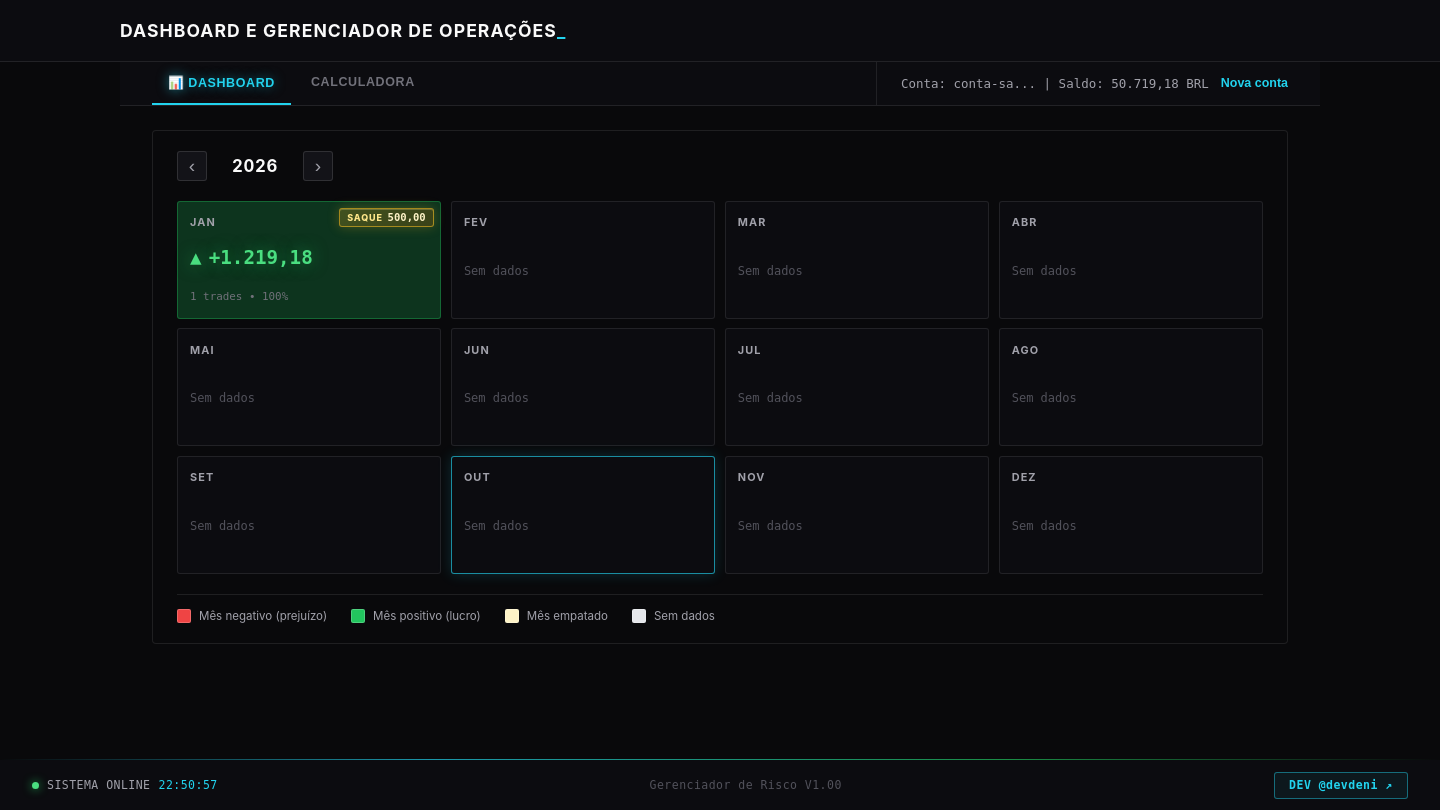
Scenario: CreateAccountModal reabertura › restaura operações salvas ao abrir e exibe no mês
The image size is (1440, 810).
Expected: the element with class "withdraw-badge" is shown, [339,208,434,227]
Expected: the element with class "withdraw-badge" shows "SAQUE", [347,212,383,223]
Click the cell with class "month-tile" that starts with "Jan" at point(309, 260), box [177,201,441,319]
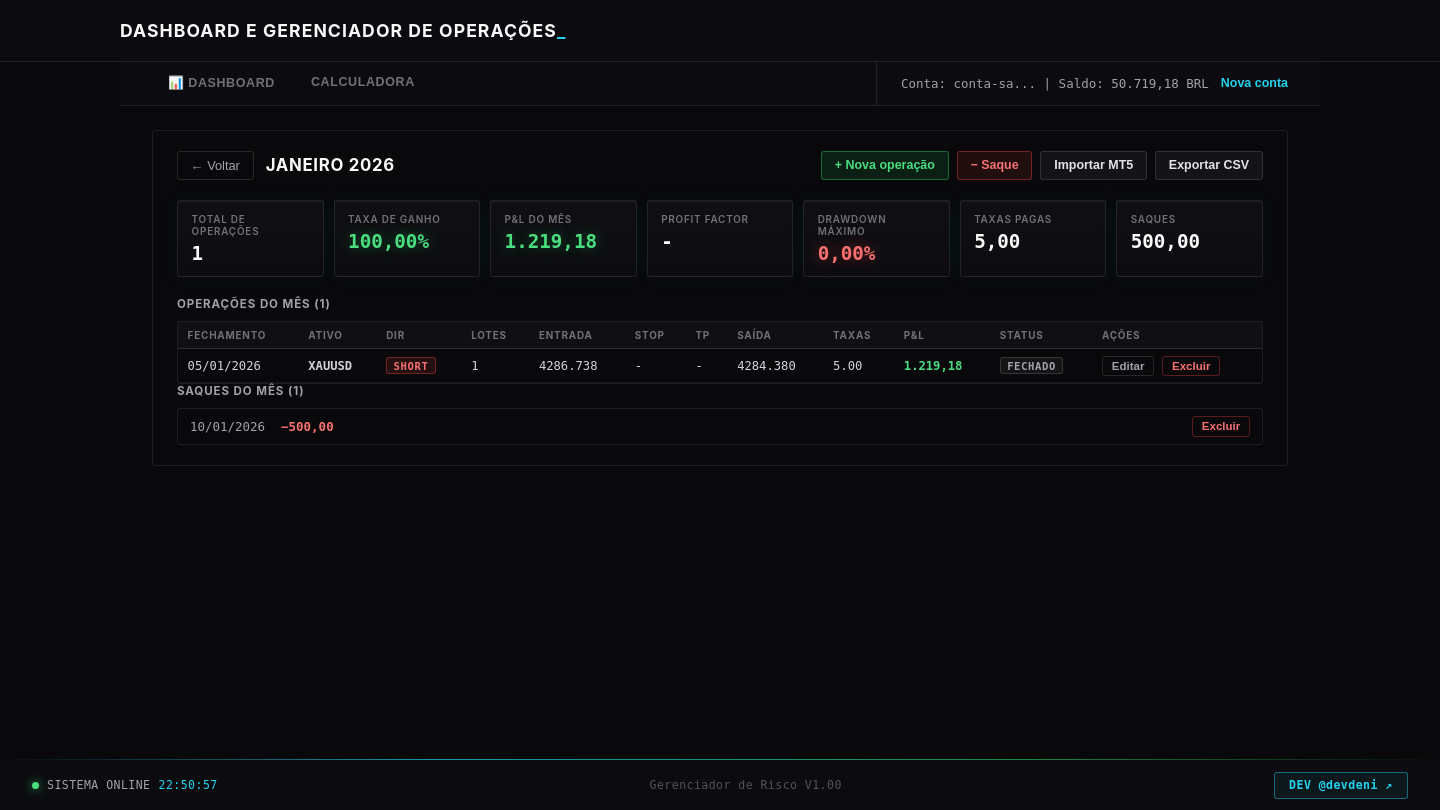
Result: the text "XAUUSD" is shown at [299,349,377,383]
Result: the text "Taxas Pagas" is shown at [974,213,1052,225]
Result: the text "5,00" is shown at [974,230,1020,253]
